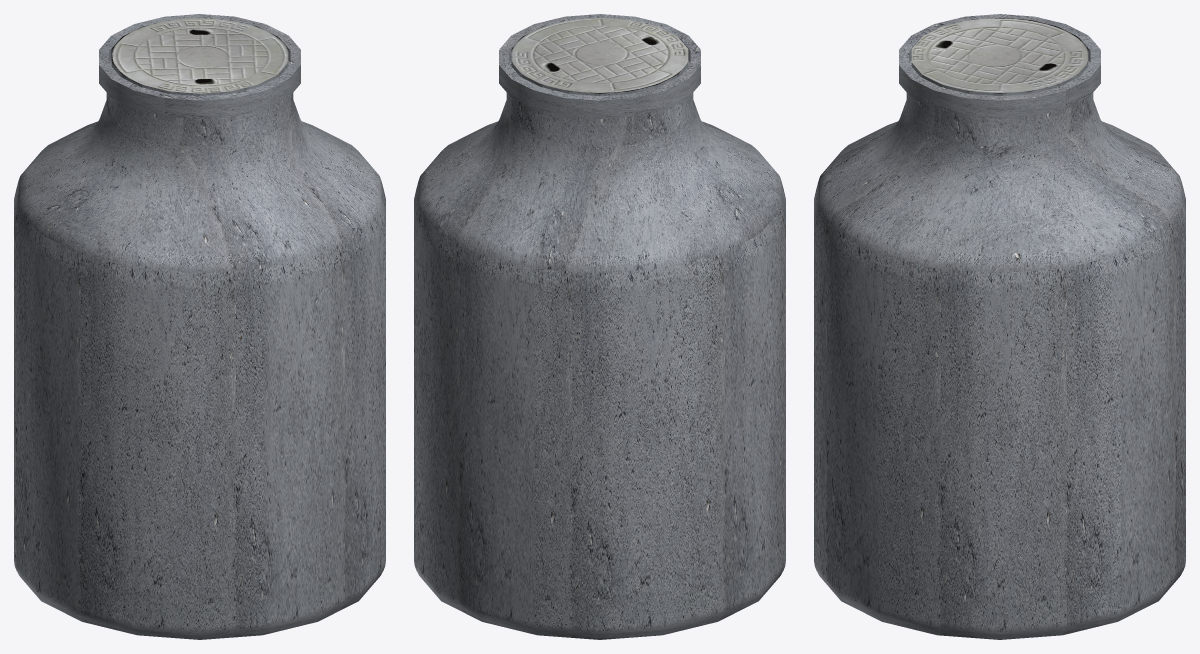
Rendered from cement.glb.
The picture shows the model from 3 angles, left to right: view 1: azimuth 30°, elevation 25°; view 2: azimuth 150°, elevation 25°; view 3: azimuth 270°, elevation 25°; orthographic projection.
Visible parts, largest first — view 1: Cylinder002, Cylinder001; view 2: Cylinder002, Cylinder001; view 3: Cylinder002, Cylinder001.
Boxes of the visible parts, x1,y1,x2,y2 form: Cylinder002: (14, 93, 385, 639); Cylinder001: (99, 14, 300, 119); Cylinder002: (414, 93, 785, 639); Cylinder001: (499, 14, 700, 119); Cylinder002: (814, 93, 1185, 639); Cylinder001: (899, 14, 1100, 119).
Size of the model in its own units: 3.68 by 5.45 by 3.62.
Materials: 2 (2 with a texture image).
